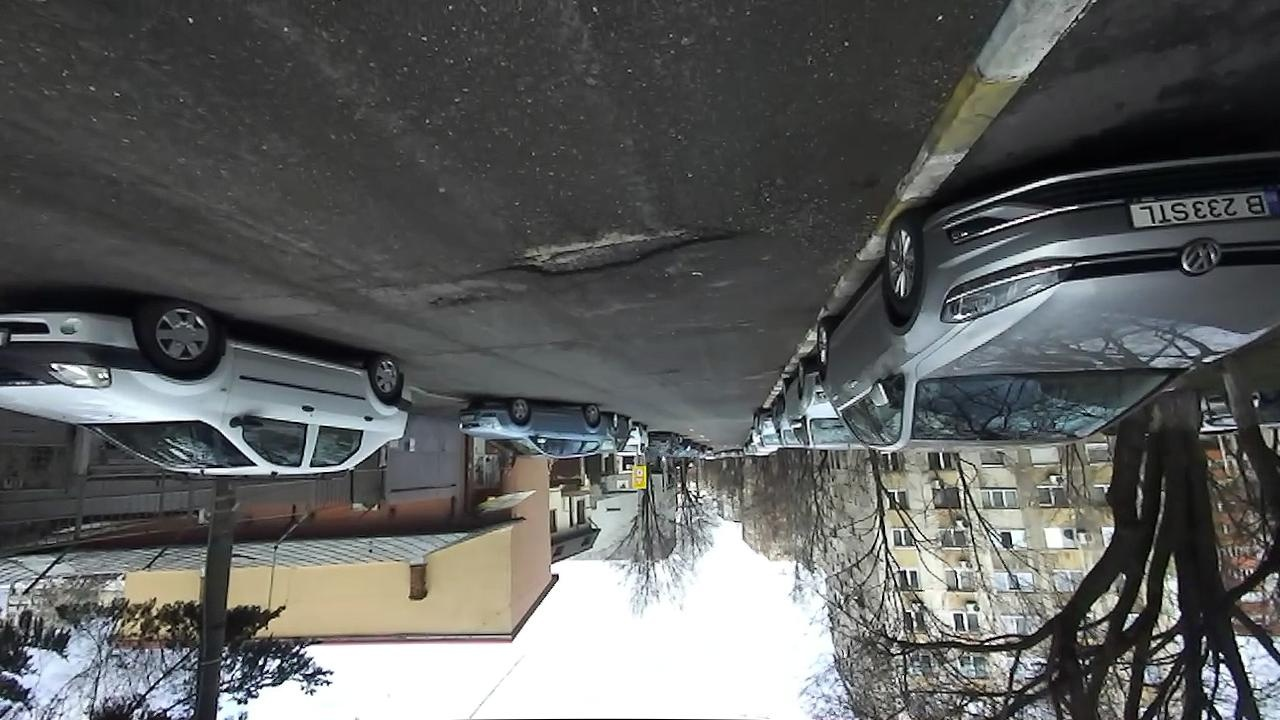pothole: (461, 222, 741, 283), (422, 291, 504, 317)
